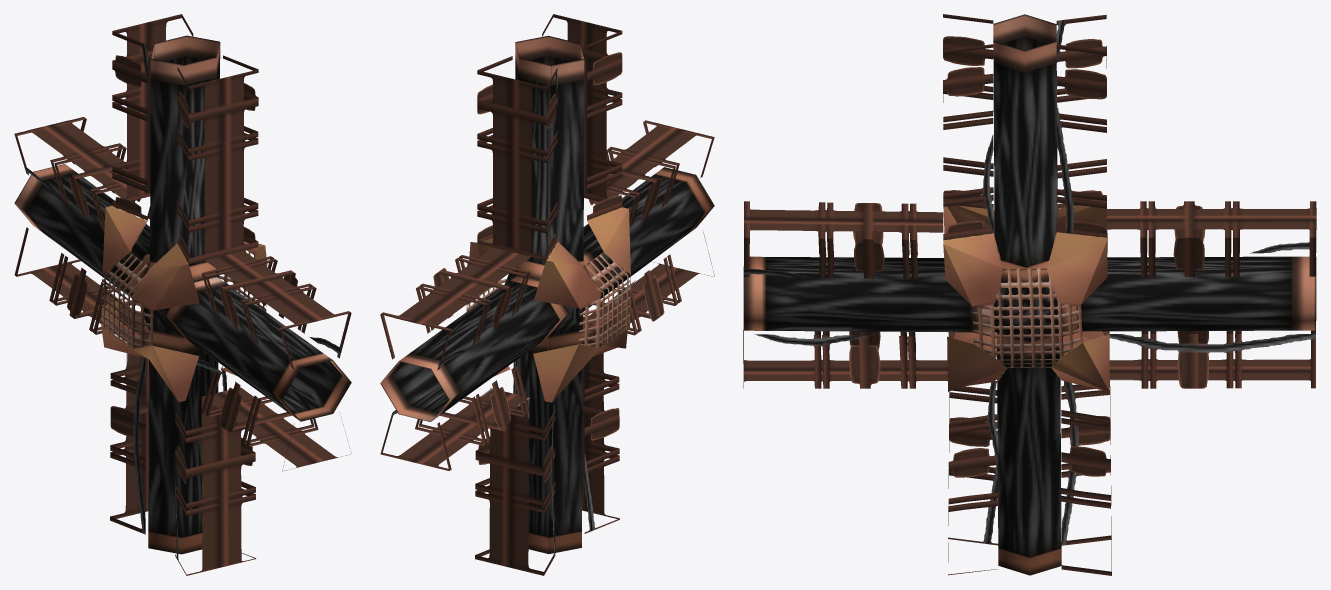
Rendered from cables_angle4.fbx.
3 renders of one model, left to right at view 1: azimuth 30°, elevation 25°; view 2: azimuth 150°, elevation 25°; view 3: azimuth 270°, elevation 25°, orthographic. The views are drawn at different scales.
Visible parts, largest first — view 1: cables_b_angle4, cables_angle4; view 2: cables_b_angle4, cables_angle4; view 3: cables_b_angle4, cables_angle4.
Part boxes in pixels (x1=…): cables_b_angle4: x1=14, y1=14, x2=351, y2=575; cables_angle4: x1=14, y1=35, x2=351, y2=554; cables_b_angle4: x1=380, y1=14, x2=714, y2=575; cables_angle4: x1=380, y1=36, x2=714, y2=553; cables_b_angle4: x1=743, y1=14, x2=1316, y2=575; cables_angle4: x1=743, y1=14, x2=1316, y2=575.
Size of the model in its own units: 1.02 by 3.54 by 3.5.
